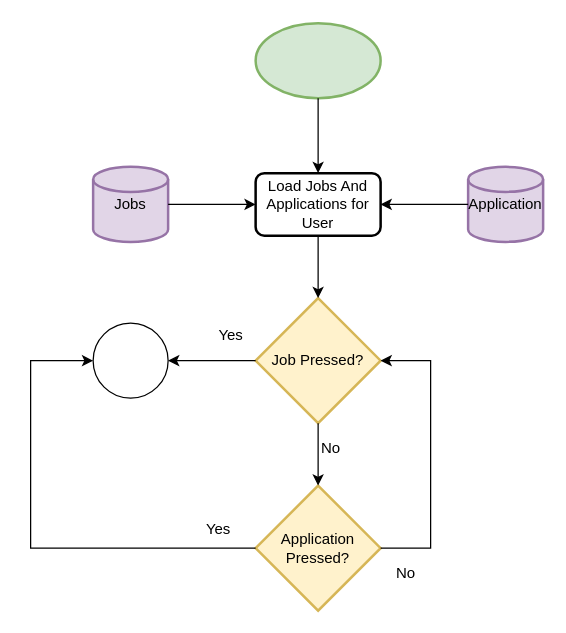
Some shapes in this 566 by 633 pixel diagram are drawn without their labels. The shapes that lost their labels are listed below. From the top down, each one's centre as x and y in pixels, then its label:
At pixel 317 60: "Load View Jobs and Apps Page".
At pixel 130 360: "Job Page".
